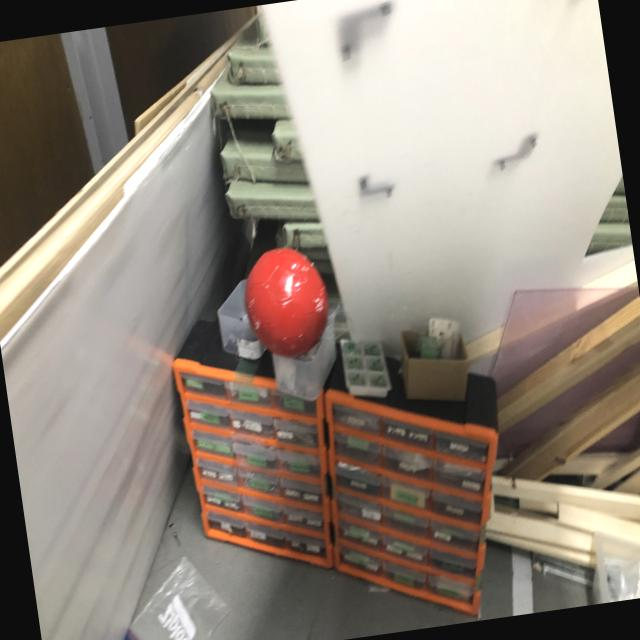red_ball: (238, 243, 336, 360)
